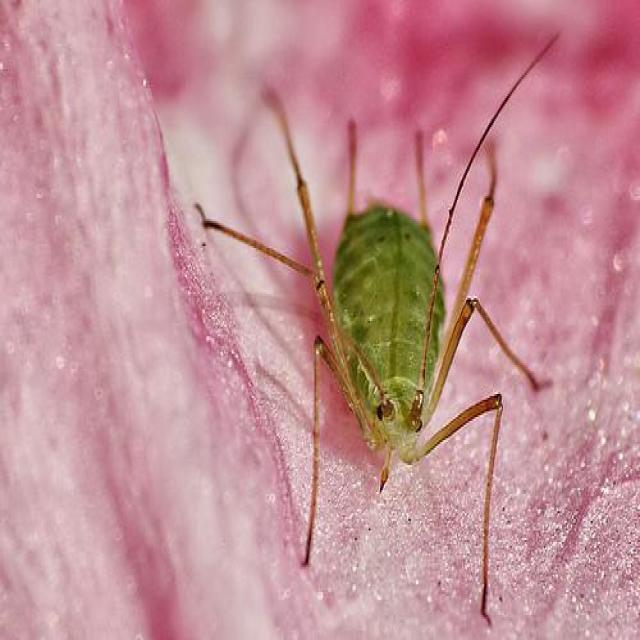aphid: (270, 113, 519, 528)
